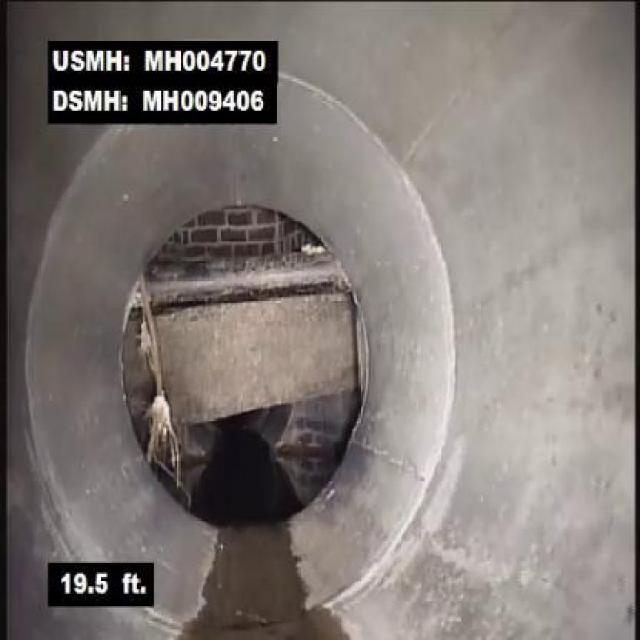Utility intrusion: (134, 243, 346, 319)
